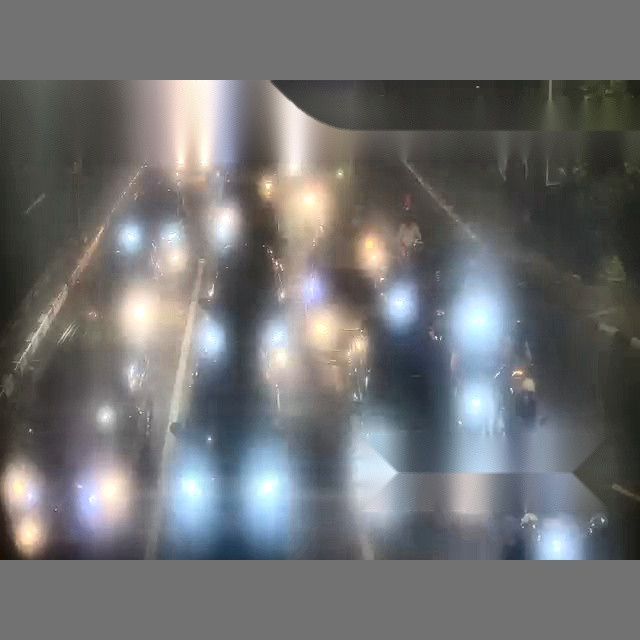Mobil: (156, 300, 304, 556)
Motor: (356, 225, 388, 286)
